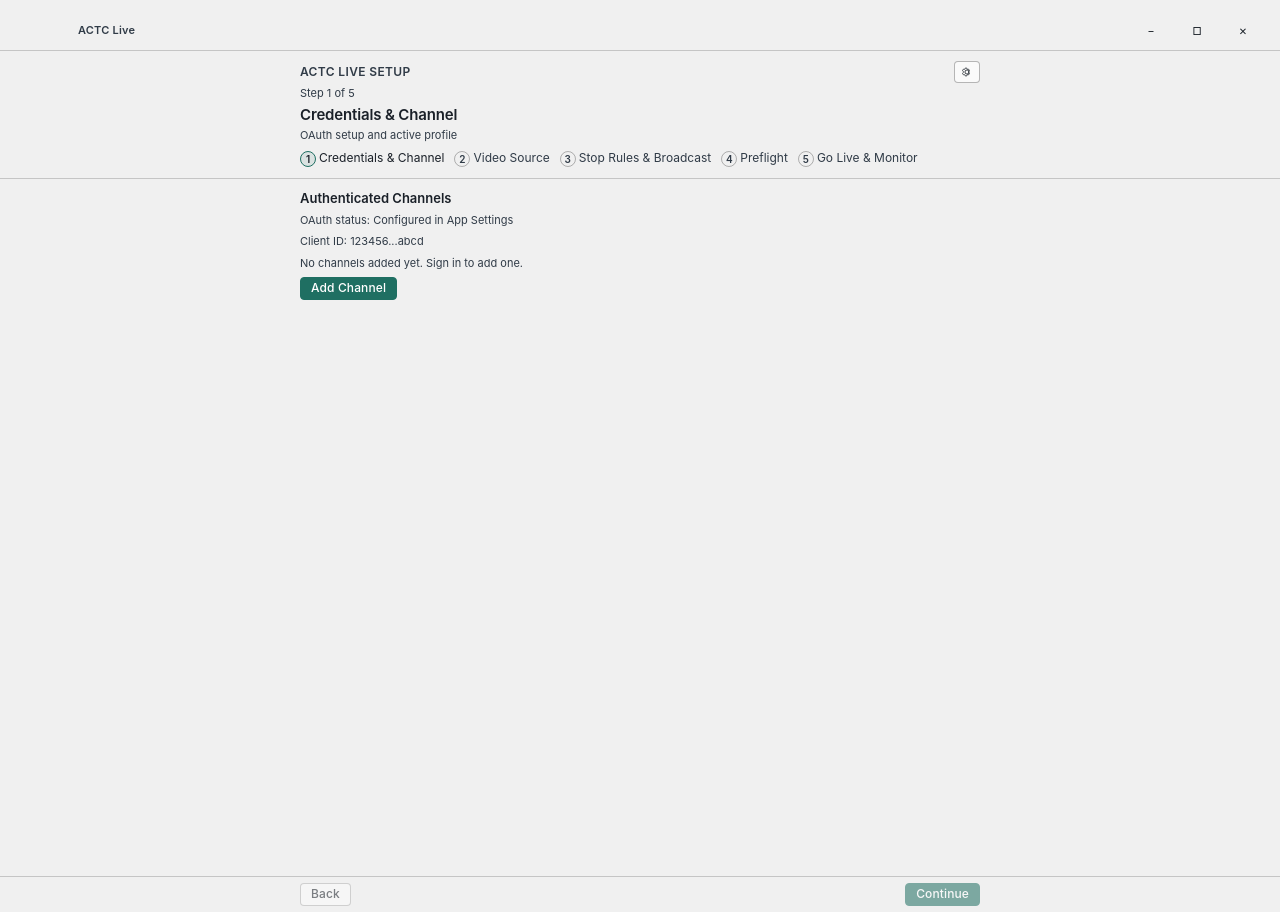
App installer wizard › shows dismissible error toasts without taking footer actions away
Click the button "Add Channel".
click(349, 288)  # box [300,277,397,300]
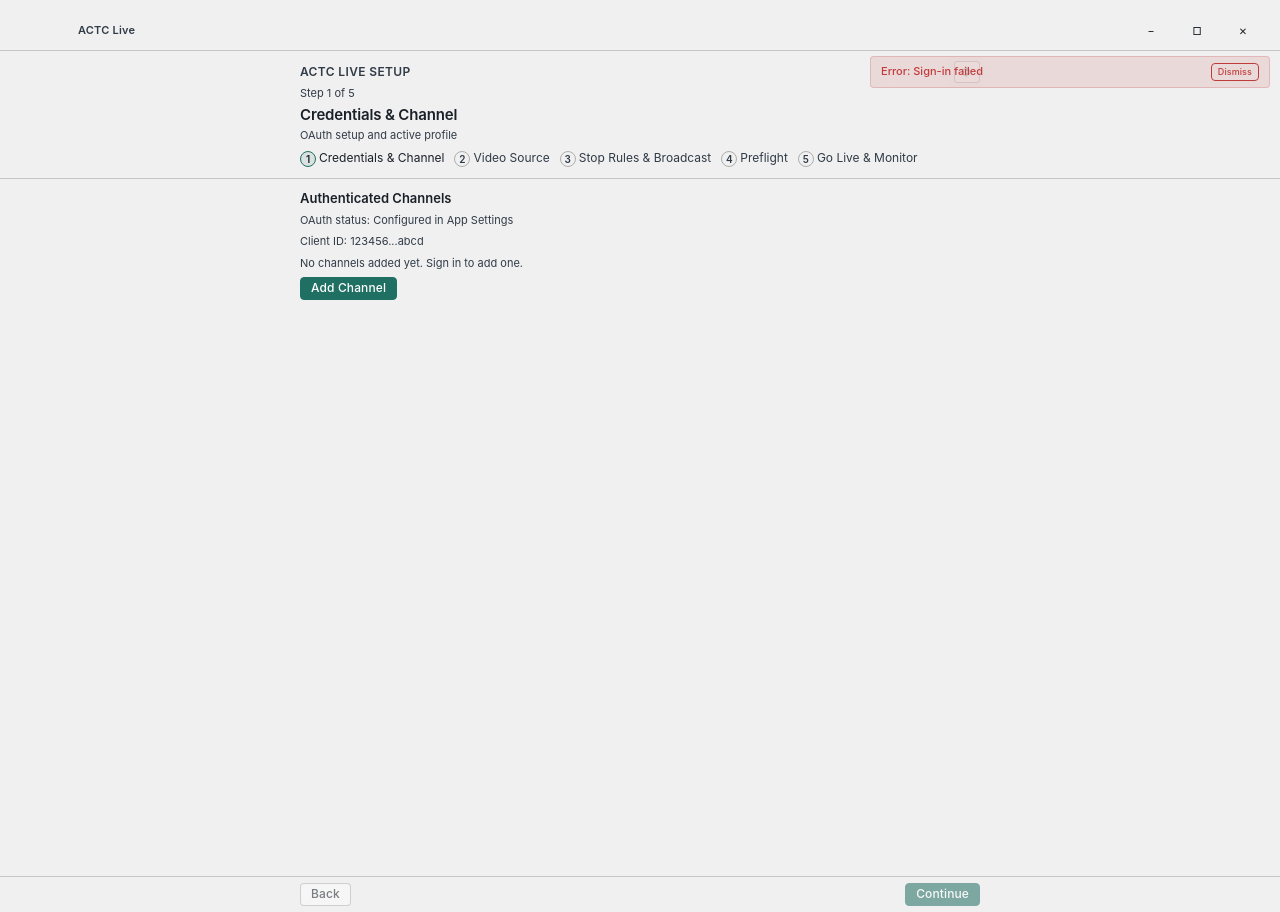
Check: the button "Continue" is shown, box [905,883,980,906]
Check: the message "Error: Sign-in failed Dismiss" is shown, box [870,56,1270,88]
Click the button with aria-label "Dismiss error".
click(1235, 72)  # box [1211,63,1259,81]
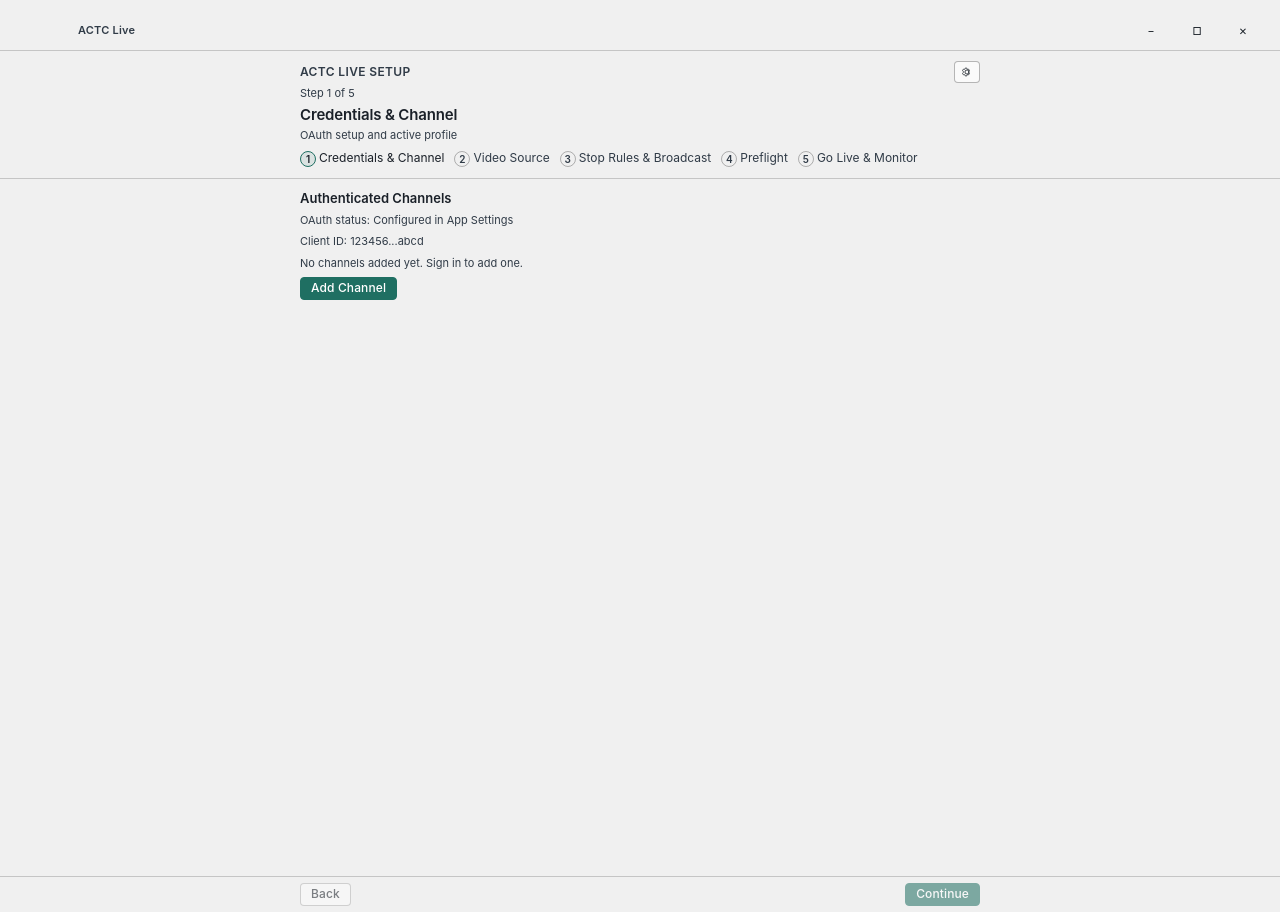
Check: the message "Error: Sign-in failed Dismiss" is gone
